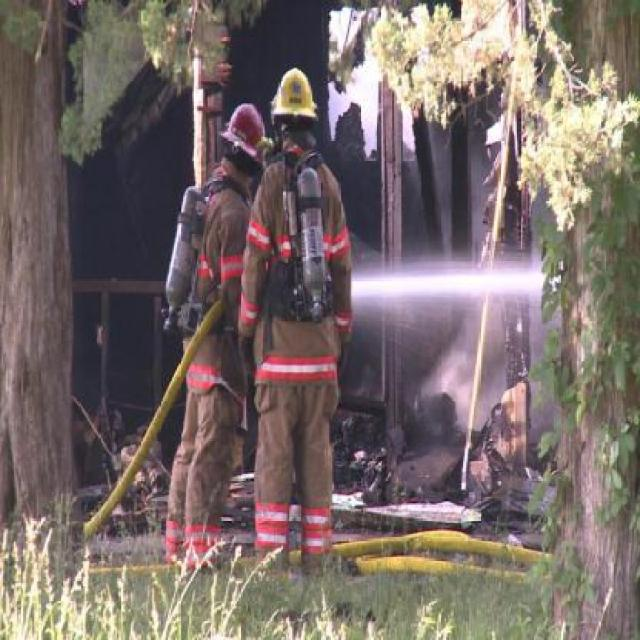Person: (231, 62, 355, 582), (156, 101, 255, 576)
